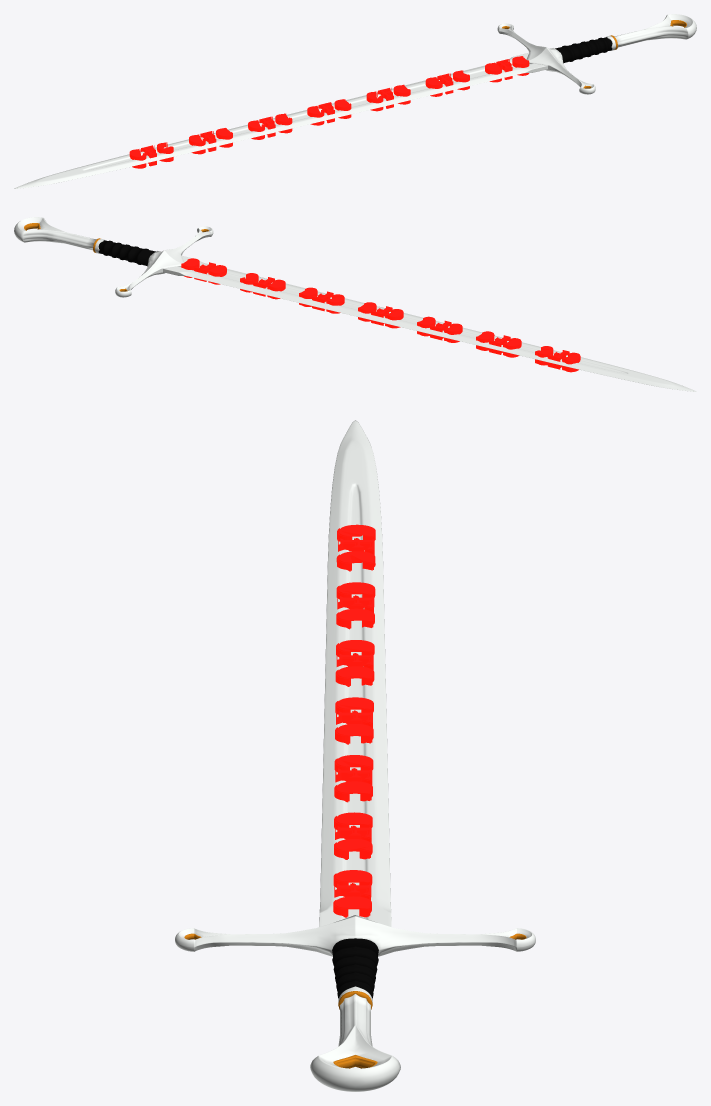
File: cfcsword.fbx
The picture shows the model from 3 angles, top to bottom: view 1: azimuth 30°, elevation 25°; view 2: azimuth 150°, elevation 25°; view 3: azimuth 270°, elevation 25°; orthographic projection. The views are drawn at different scales.
Visible parts, largest first — view 1: blade, 텍스트, handle, Sword; view 2: blade, 텍스트, handle, Sword; view 3: blade, 텍스트, handle, Sword.
Boxes of the visible parts, x1,y1,x2,y2 form: blade: (14, 52, 547, 188); 텍스트: (129, 56, 529, 168); handle: (555, 14, 696, 63); Sword: (497, 23, 595, 94); blade: (163, 255, 696, 391); 텍스트: (181, 258, 580, 372); handle: (14, 217, 155, 266); Sword: (115, 226, 213, 297); blade: (319, 420, 391, 926); 텍스트: (333, 524, 375, 917); handle: (310, 938, 400, 1091); Sword: (175, 915, 535, 956).
Size of the model in its own units: 124 by 4.1 by 28.42.
